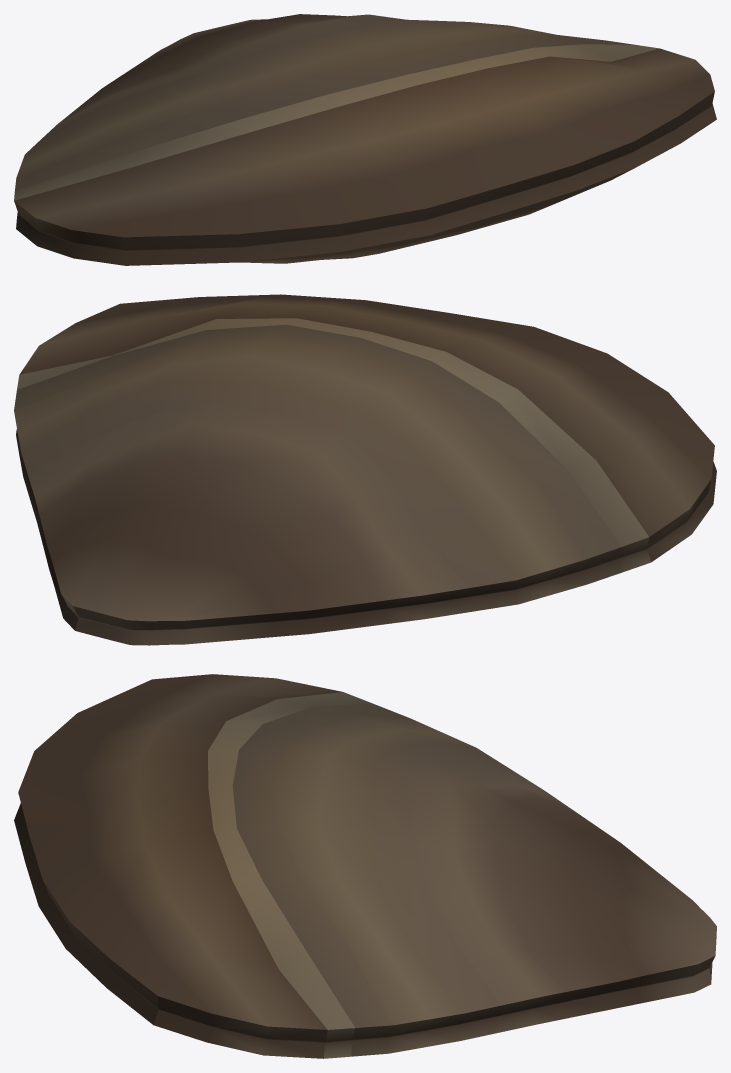
The model's file is underwater-shells-clam_v1.fbx.
The picture shows the model from 3 angles, top to bottom: view 1: azimuth 30°, elevation 25°; view 2: azimuth 150°, elevation 25°; view 3: azimuth 270°, elevation 25°; orthographic projection. The views are drawn at different scales.
Visible parts, largest first — view 1: Clam; view 2: Clam; view 3: Clam.
Boxes of the visible parts, x1,y1,x2,y2 form: Clam: [14, 14, 716, 265]; Clam: [14, 294, 716, 645]; Clam: [14, 674, 716, 1058].
Size of the model in its own units: 0.1 by 0.0275 by 0.0851.
